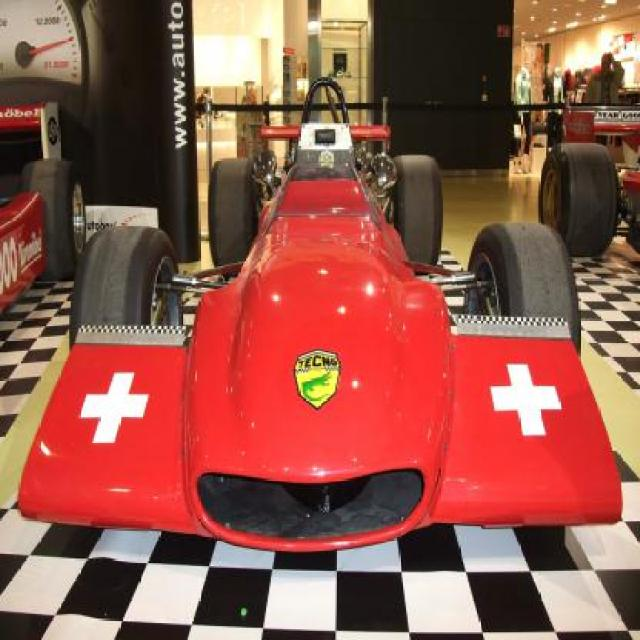Car: (48, 105, 606, 566), (0, 94, 89, 320), (537, 100, 638, 258)
